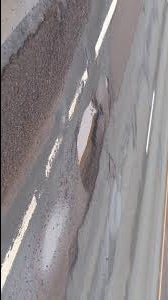pothole: (75, 99, 101, 193), (63, 207, 90, 274), (105, 74, 113, 93)
